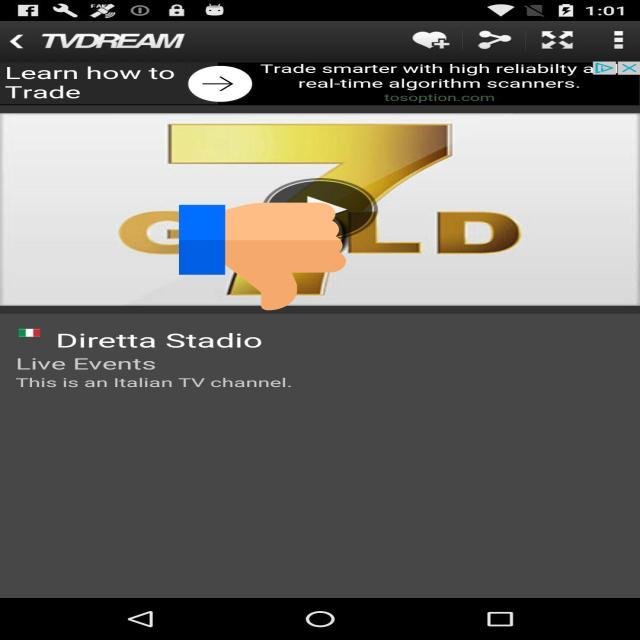obstruction: (179, 200, 346, 313)
